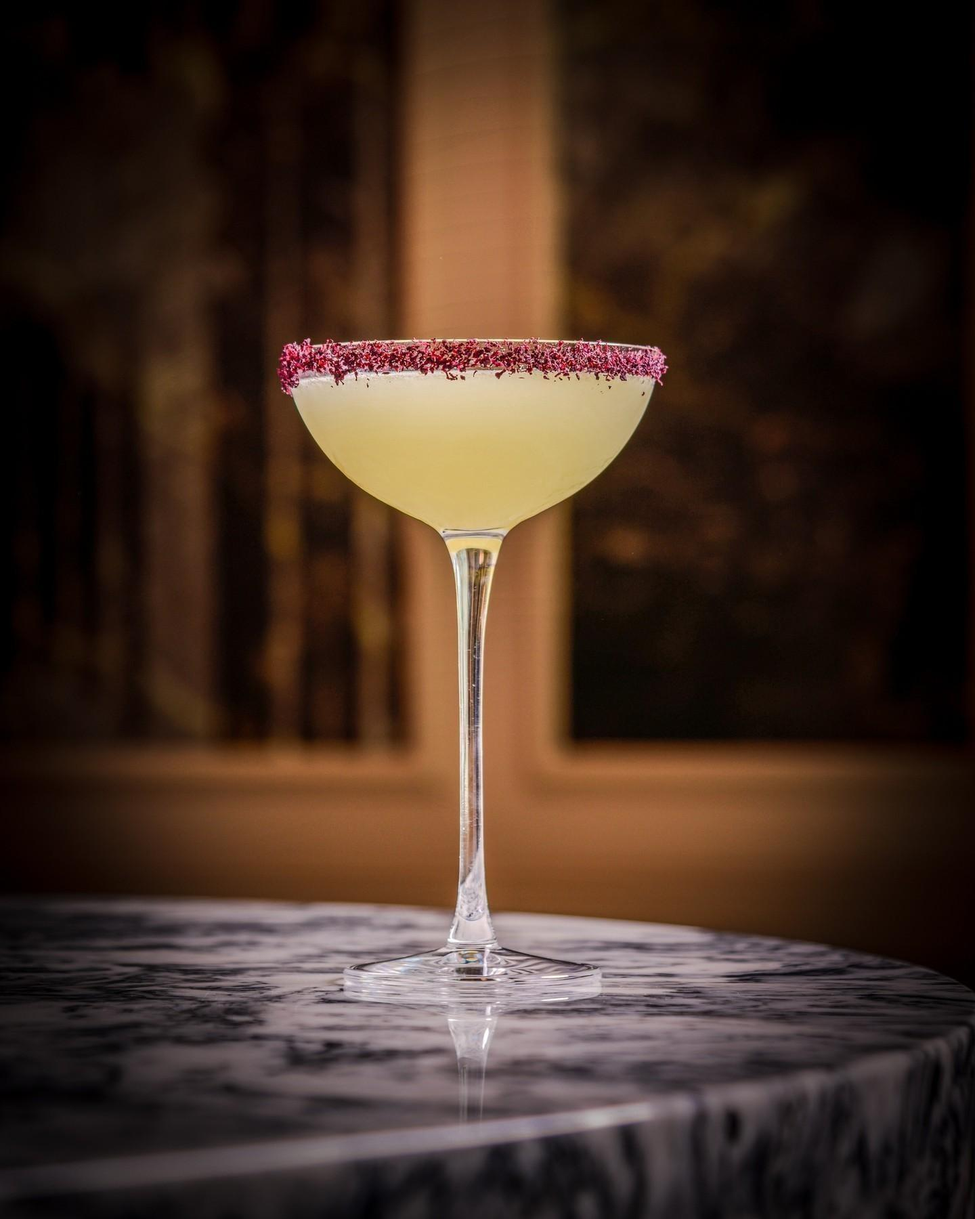glass-wine: (276, 326, 675, 1013)
